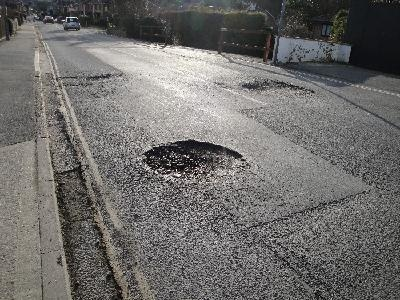pothole: (139, 136, 251, 183), (241, 77, 316, 96), (126, 163, 127, 165)
